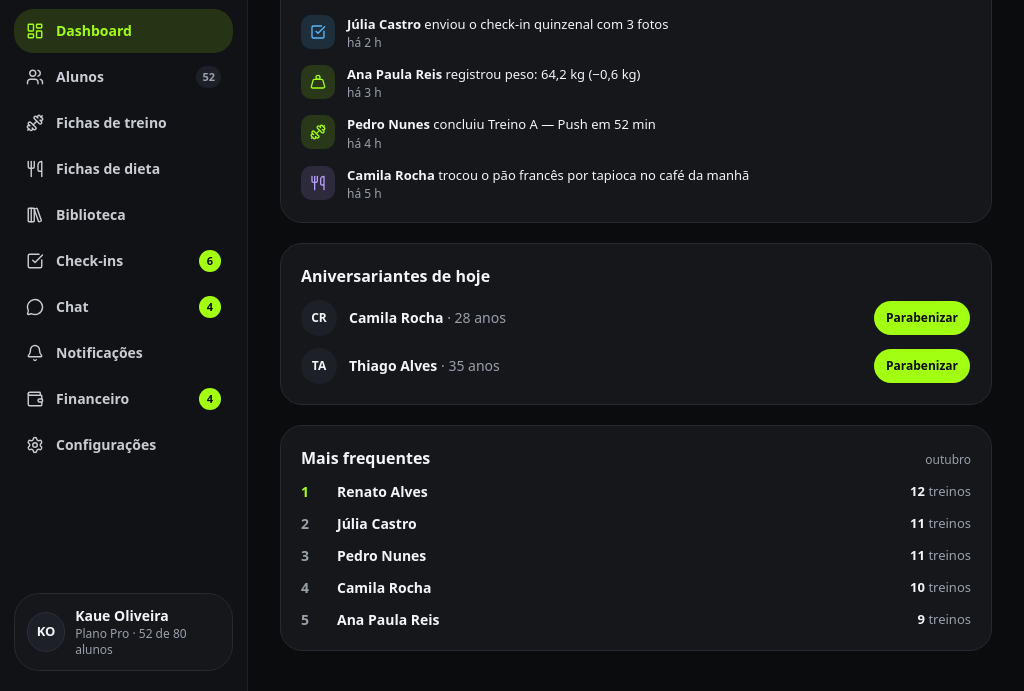
Test: Dashboard › parabeniza o aniversariante pelo chat
(page scrolled)
Step 1. Click the button with aria-label "Parabenizar Camila Rocha" → (922, 318), box x1=873 y1=300 x2=971 y2=336
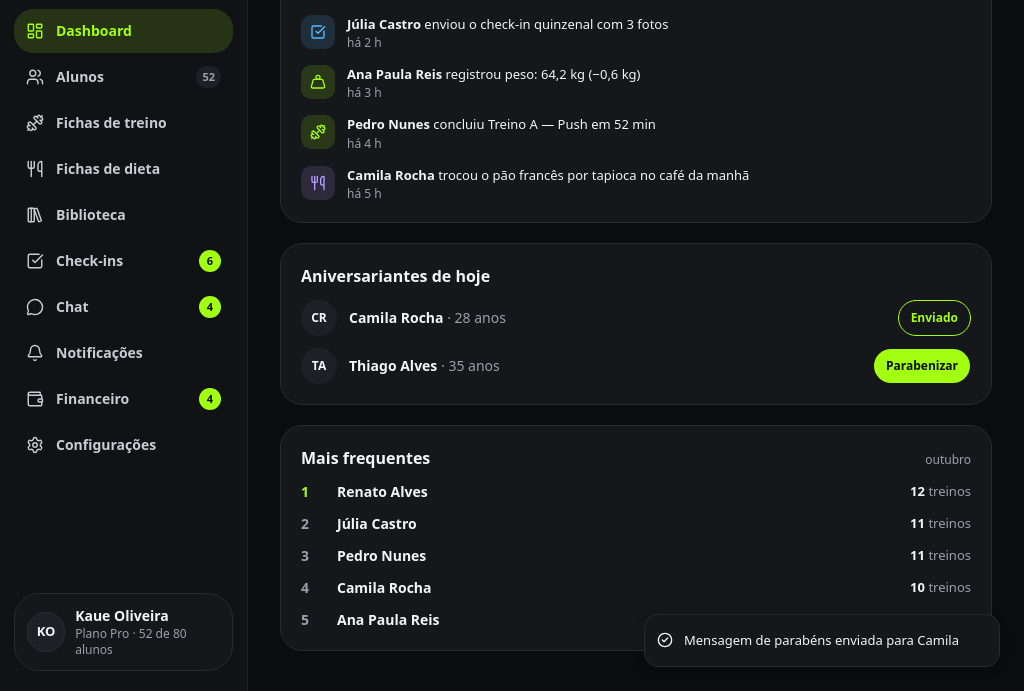
expect the button with aria-label "Parabenizar Thiago Alves" is enabled: met, box x1=873 y1=348 x2=971 y2=384
expect the button with aria-label "Parabéns enviado para Camila Rocha" is disabled: met, box x1=898 y1=300 x2=971 y2=336
expect the text "Mensagem de parabéns enviada para Camila" is shown: met, box x1=684 y1=630 x2=959 y2=650
